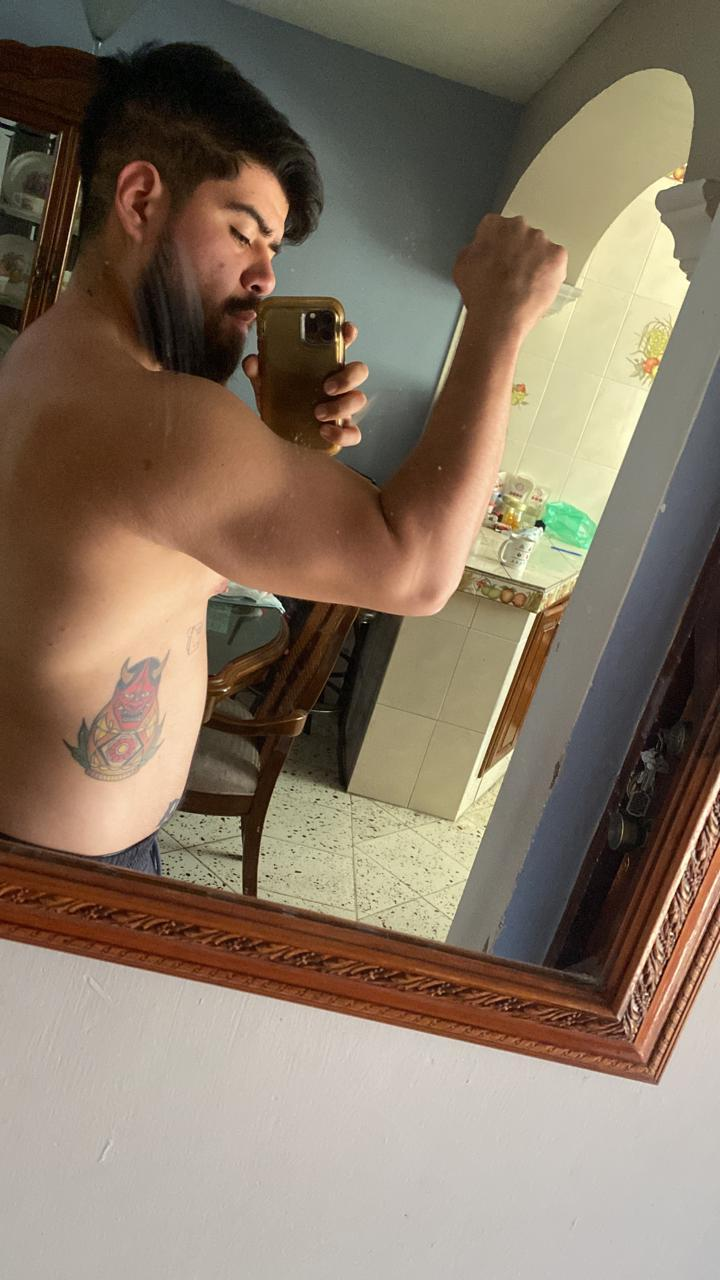Stone: (430, 196, 597, 343)
